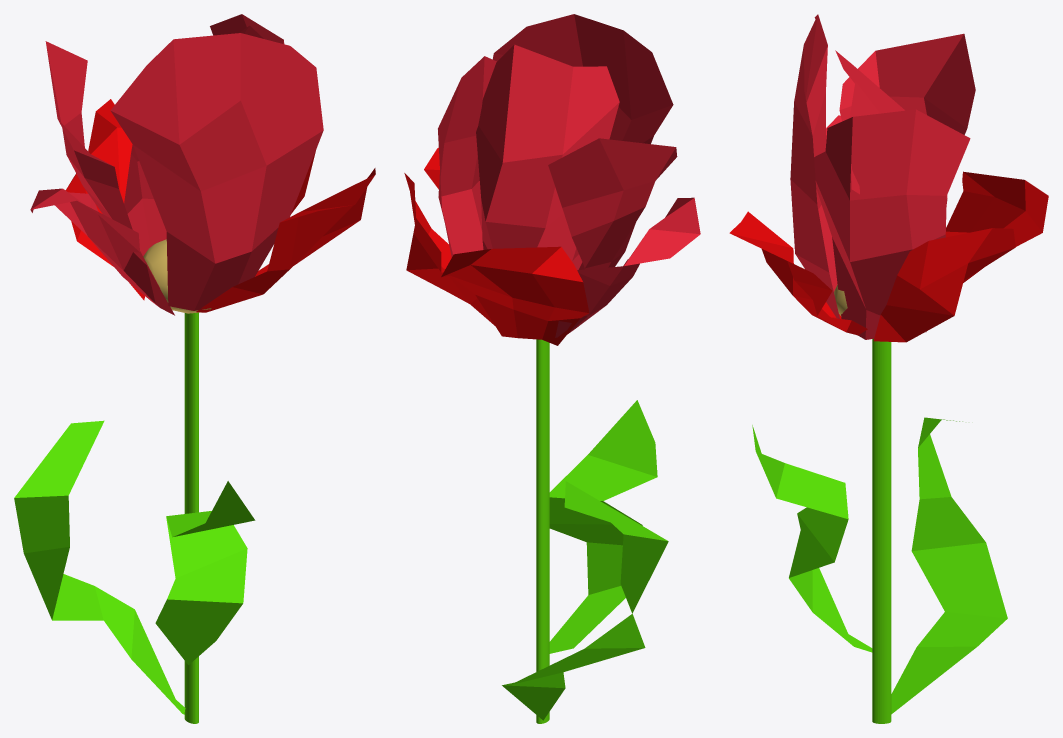
The model's file is flowasecond.glb.
3 views of the same model, side by side, from view 1: azimuth 30°, elevation 25°; view 2: azimuth 150°, elevation 25°; view 3: azimuth 270°, elevation 25° (orthographic). The views are drawn at different scales.
Visible parts, largest first — view 1: Plane, Plane.021, Plane.029, Plane.003, Plane.004, Plane.006, Cylinder, Plane.010, Plane.002, keski.001, Plane.001; view 2: Plane.002, Plane.029, Plane.004, Plane.010, Plane, Plane.021, Plane.001, Cylinder, Plane.006, Plane.005; view 3: Plane.001, Plane.021, Plane.005, Plane, Plane.004, Plane.029, Cylinder, Plane.010, Plane.003, Plane.002.
Boxes of the visible parts, x1,y1,x2,y2 form: Plane: (110, 33, 323, 310); Plane.021: (14, 420, 185, 714); Plane.029: (155, 481, 255, 664); Plane.003: (196, 168, 375, 312); Plane.004: (45, 41, 160, 288); Plane.006: (30, 188, 174, 315); Cylinder: (184, 312, 198, 723); Plane.010: (65, 99, 145, 300); Plane.002: (124, 25, 263, 256); keski.001: (143, 239, 211, 313); Plane.001: (210, 14, 284, 43); Plane.002: (476, 44, 619, 260); Plane.029: (549, 400, 657, 653); Plane.004: (548, 138, 677, 269); Plane.010: (441, 246, 589, 345); Plane: (492, 14, 673, 270); Plane.021: (502, 481, 668, 720); Plane.001: (438, 56, 578, 260); Cylinder: (536, 339, 549, 723); Plane.006: (555, 197, 700, 337); Plane.005: (404, 173, 494, 325); Plane.001: (814, 109, 970, 339); Plane.021: (891, 417, 1007, 714); Plane.005: (873, 228, 1015, 342); Plane: (790, 14, 839, 318); Plane.004: (839, 33, 975, 134); Plane.029: (752, 425, 872, 652); Cylinder: (872, 339, 891, 723); Plane.010: (925, 171, 1048, 332); Plane.003: (729, 211, 867, 335); Plane.002: (835, 50, 904, 194).
Bounding box in the file's own units: 5.43 × 11.79 × 4.99.
